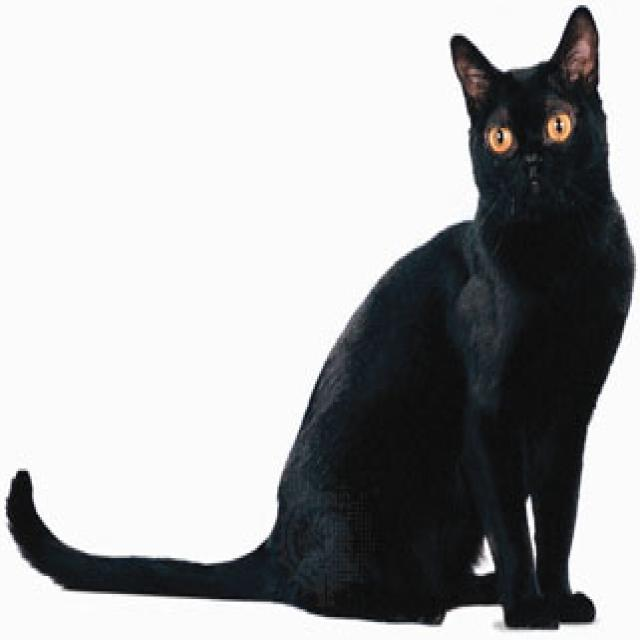Bombay: (449, 0, 602, 220)
